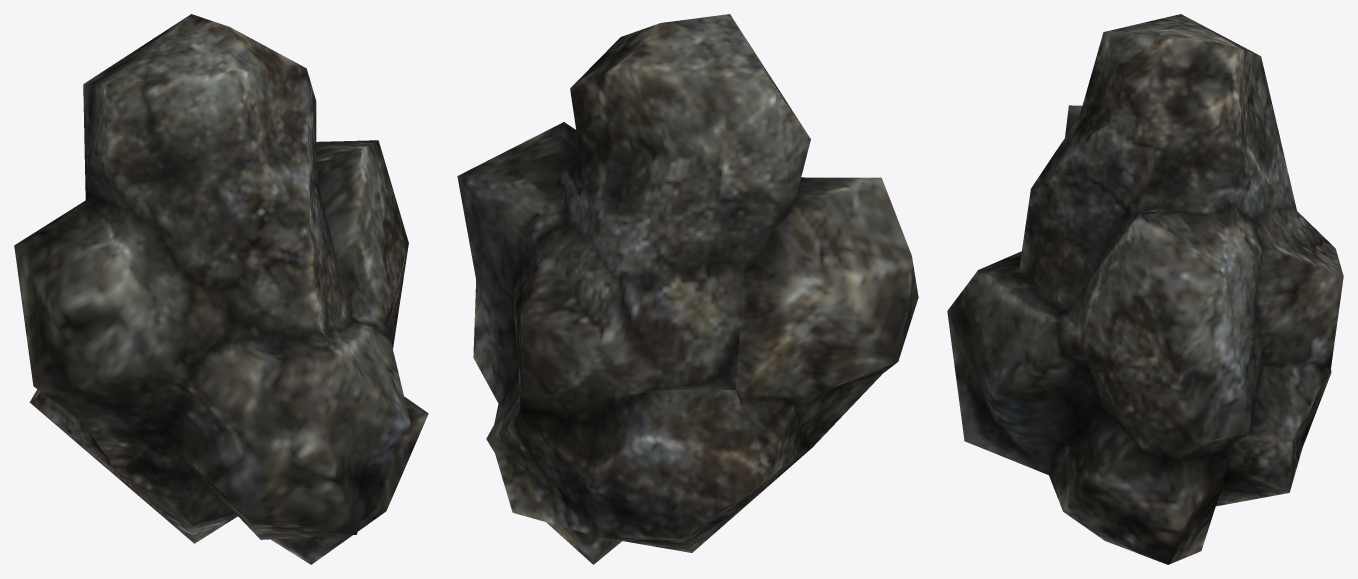
File: Rock1_LOD1.fbx
3 renders of one model, left to right at view 1: azimuth 30°, elevation 25°; view 2: azimuth 150°, elevation 25°; view 3: azimuth 270°, elevation 25°, orthographic. The views are drawn at different scales.
Parts seen in each view (by area): view 1: Rock1_Group5525; view 2: Rock1_Group5525; view 3: Rock1_Group5525.
Part boxes in pixels (left/top/right/bottom): Rock1_Group5525: left=14, top=14, right=428, bottom=564; Rock1_Group5525: left=457, top=14, right=918, bottom=564; Rock1_Group5525: left=947, top=14, right=1343, bottom=564.
Size of the model in its own units: 5.02 by 6.47 by 4.72.
